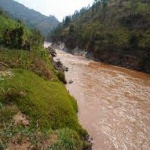River: (41, 38, 146, 149)
